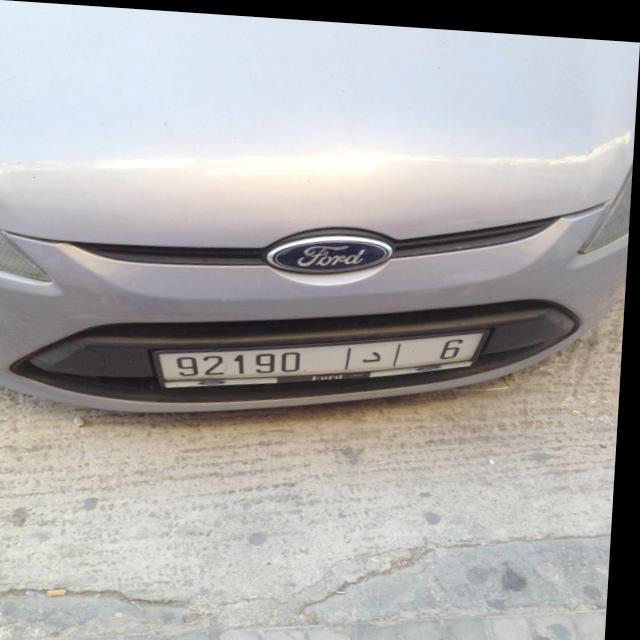License-Plate: (165, 326, 487, 379)
